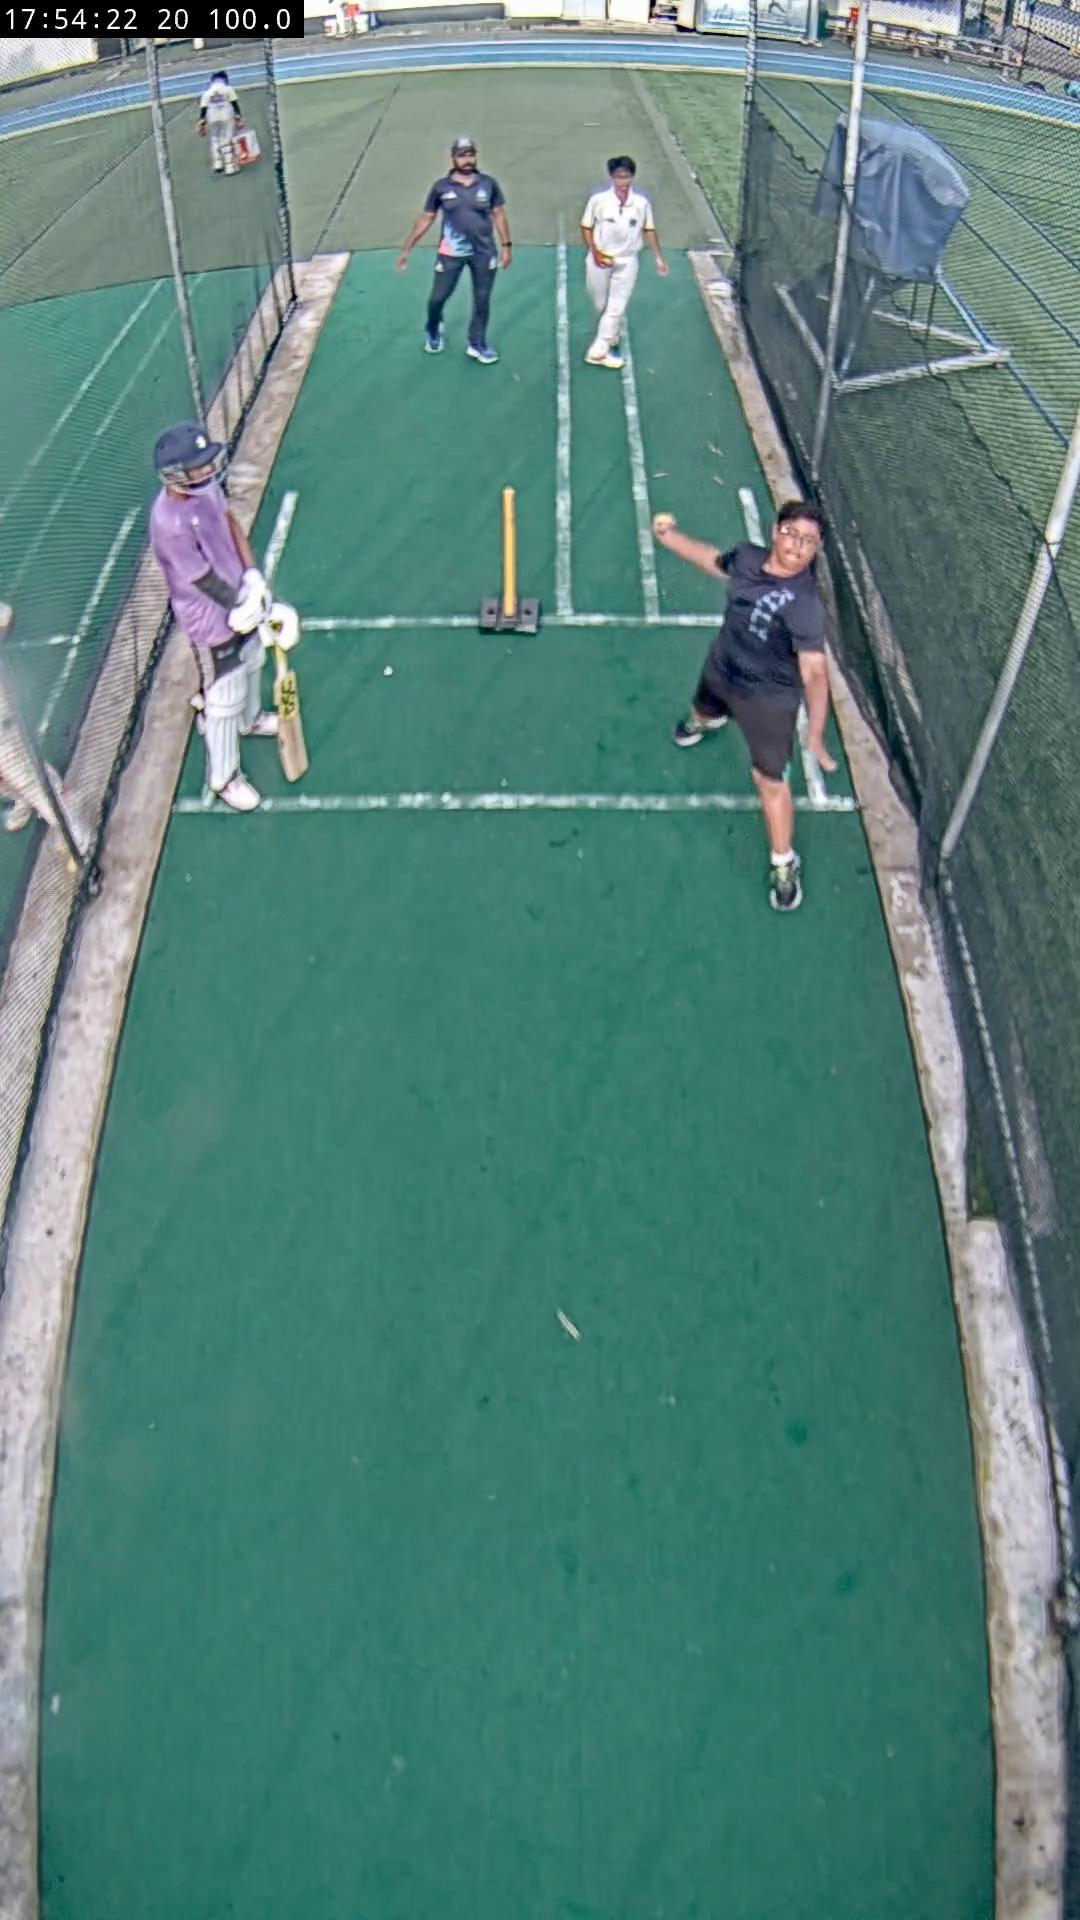ball: (653, 514, 679, 530)
stumps: (480, 488, 541, 634)
